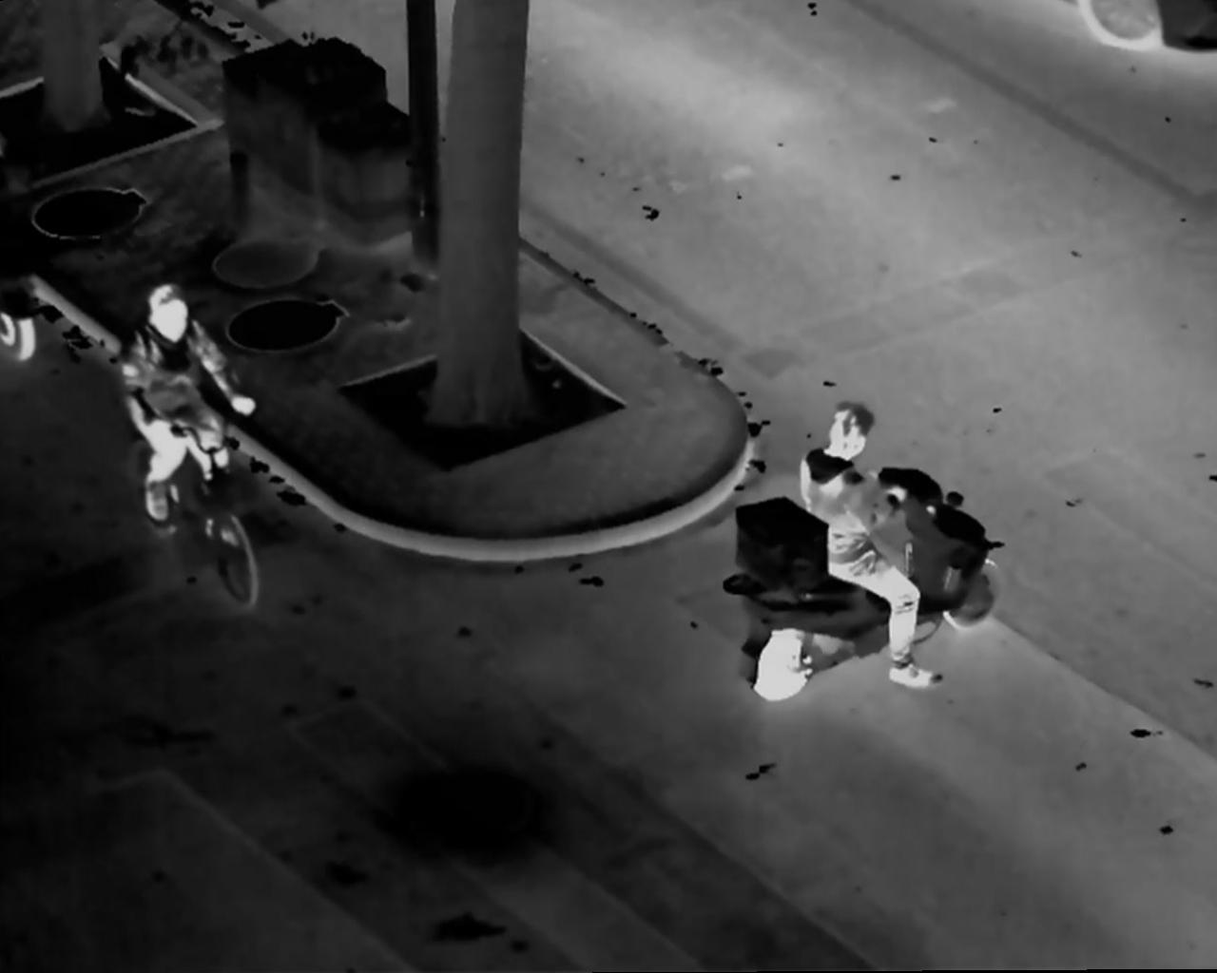person: (801, 398, 958, 697), (102, 269, 269, 527)
